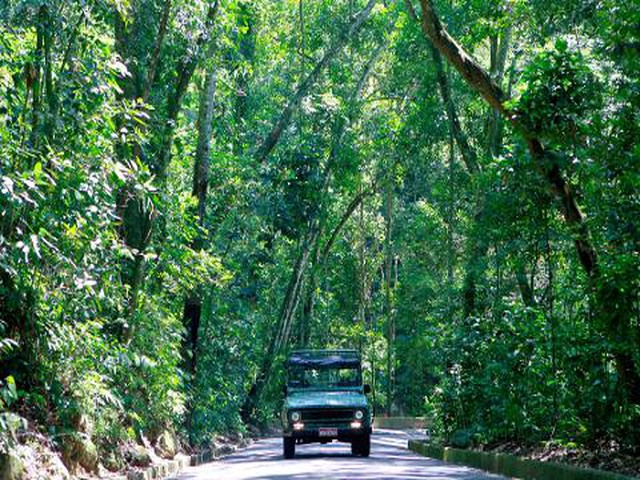Vehicle: (279, 342, 380, 459)
